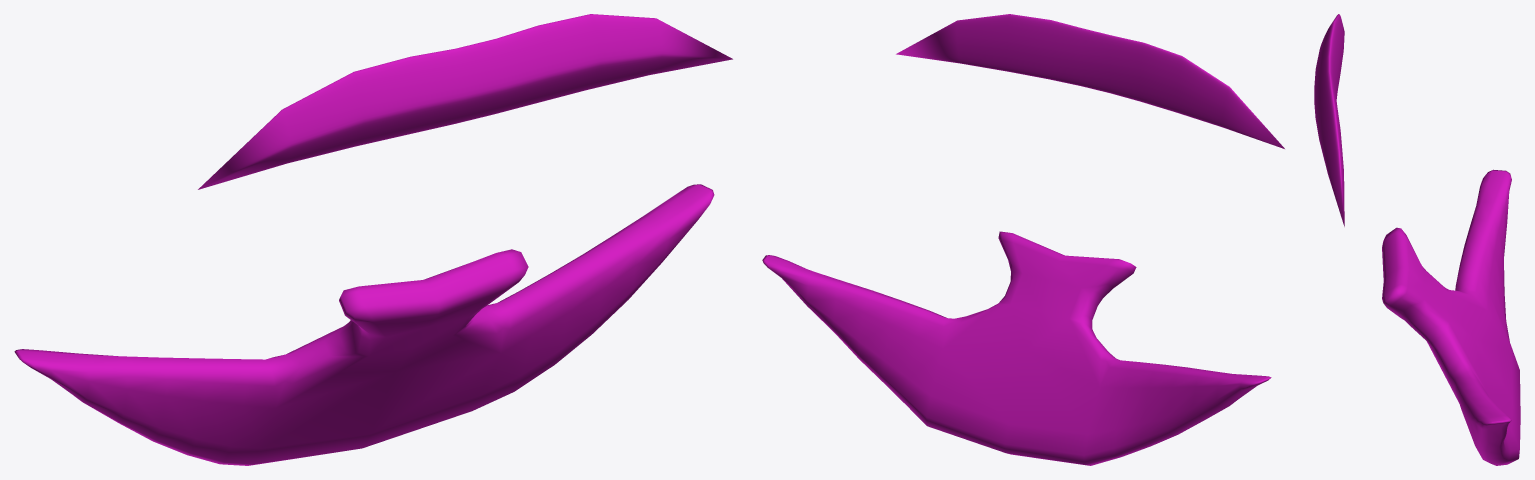
Rendered from testBeard2.glb.
The picture shows the model from 3 angles, left to right: view 1: azimuth 30°, elevation 25°; view 2: azimuth 150°, elevation 25°; view 3: azimuth 270°, elevation 25°; orthographic projection. The views are drawn at different scales.
Parts seen in each view (by area): view 1: testBeard2; view 2: testBeard2; view 3: testBeard2.
Part boxes in pixels (left/top/right/bottom): testBeard2: left=14, top=14, right=732, bottom=465; testBeard2: left=762, top=14, right=1284, bottom=465; testBeard2: left=1314, top=14, right=1520, bottom=465.
Bounding box in the file's own units: 0.2332 × 0.159 × 0.0803.
